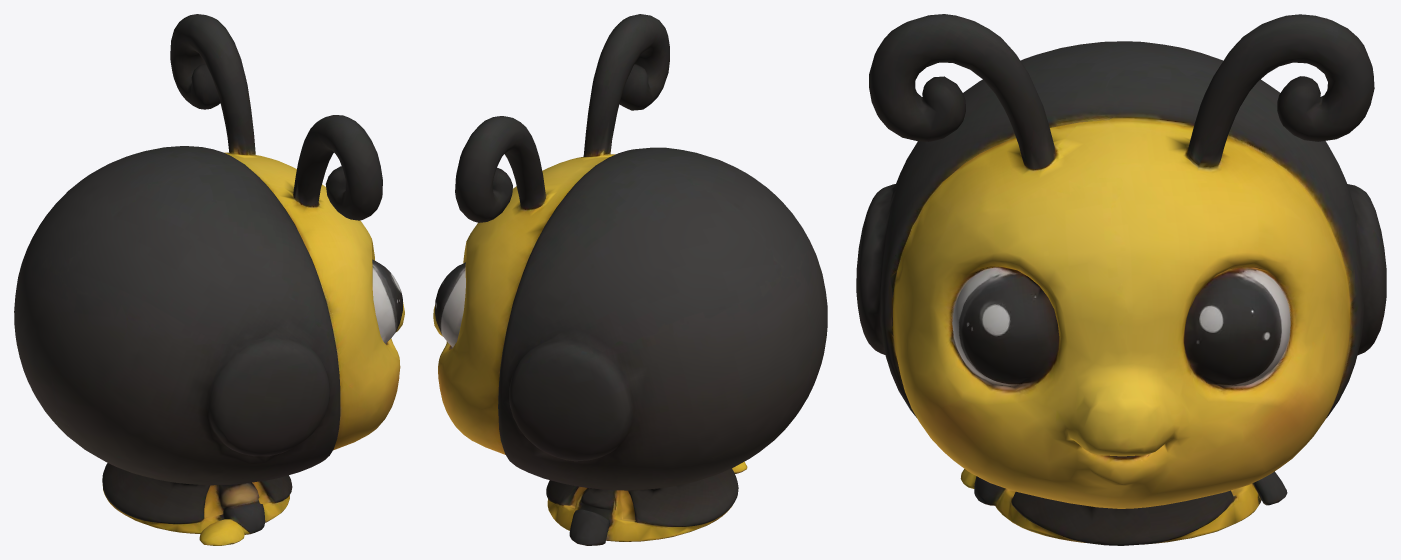
The model's file is head.glb.
3 views of the same model, side by side, from view 1: azimuth 30°, elevation 25°; view 2: azimuth 150°, elevation 25°; view 3: azimuth 270°, elevation 25° (orthographic). The views are drawn at different scales.
Parts seen in each view (by area): view 1: tripo_node_51c691e6-8bfb-4e27-8623-ea419563f0af; view 2: tripo_node_51c691e6-8bfb-4e27-8623-ea419563f0af; view 3: tripo_node_51c691e6-8bfb-4e27-8623-ea419563f0af.
Part boxes in pixels (box(x1,y1,x2,y2)): tripo_node_51c691e6-8bfb-4e27-8623-ea419563f0af: box(14, 14, 404, 545); tripo_node_51c691e6-8bfb-4e27-8623-ea419563f0af: box(433, 14, 827, 545); tripo_node_51c691e6-8bfb-4e27-8623-ea419563f0af: box(856, 14, 1386, 545).
Size of the model in its own units: 0.9278 by 1 by 0.9079.
1 material, 1 textured.
